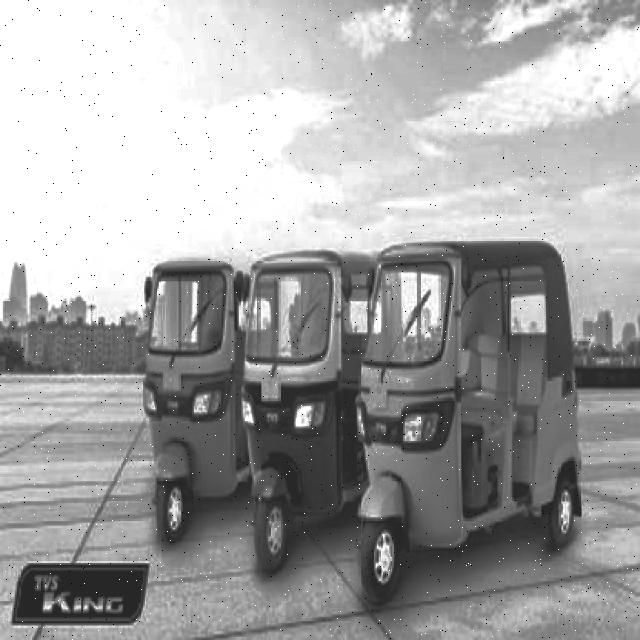Auto-Rickshaw: (363, 243, 583, 604), (237, 246, 358, 583), (140, 252, 248, 545)
